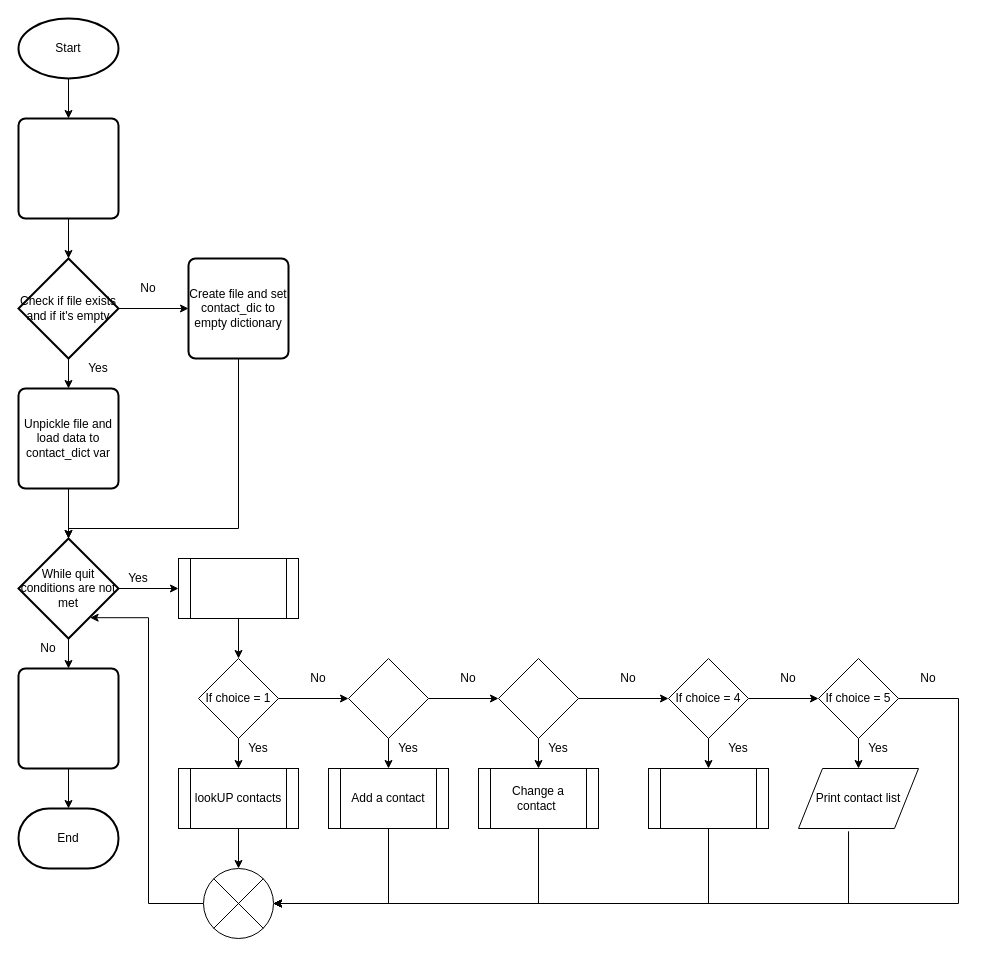
Some shapes in this 984 by 956 pixel diagram are drawn without their labels. The shapes that lost their labels are listed below. From the top down, each one's box as (x1, y1, x2, y2) in pixels, then its label:
(17, 117, 119, 219): Set variables and import pickle and os
(178, 558, 298, 618): Display menu and get choice
(17, 667, 119, 769): Pickle and dump to file and close file
(348, 658, 428, 738): If choice = 2
(498, 658, 578, 738): If choice = 3
(648, 768, 768, 828): Delete a contact
